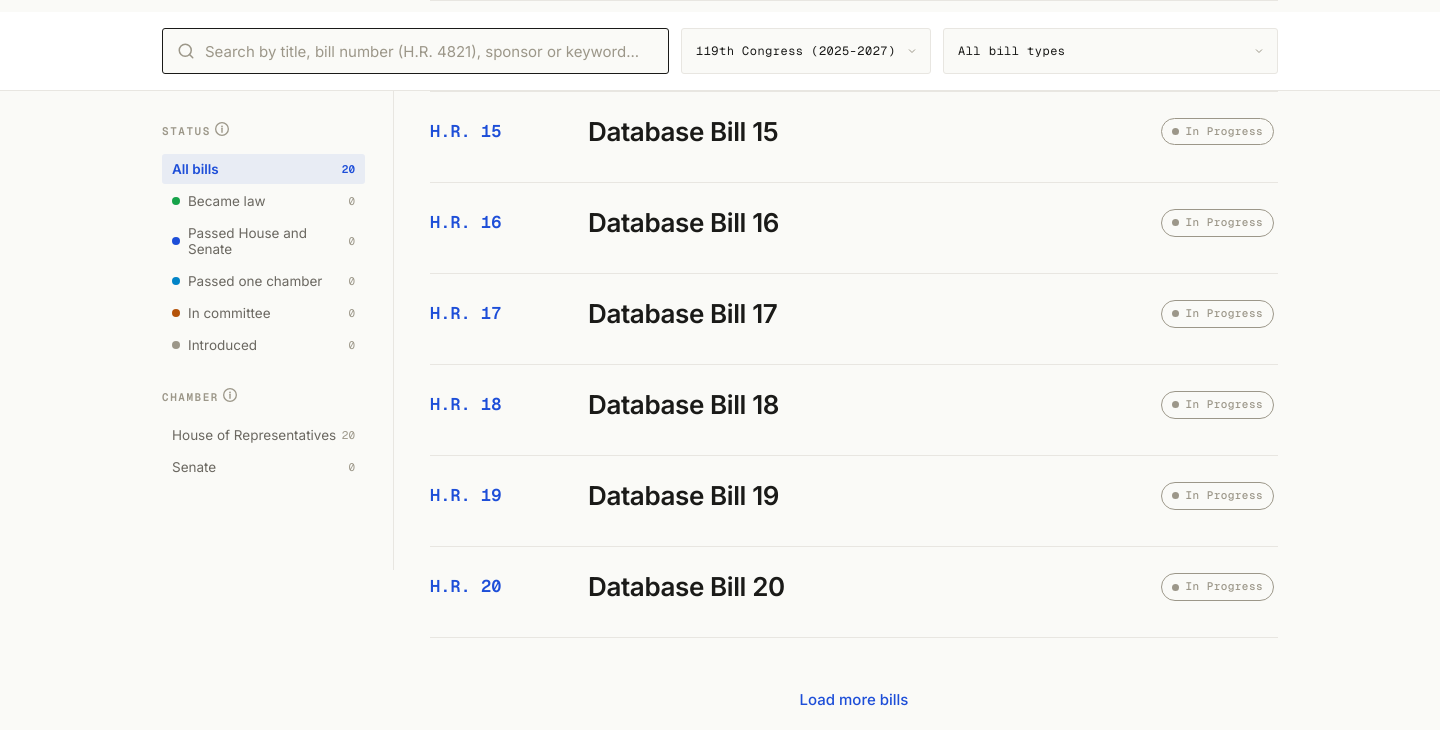
BillsPage when Congress.gov is unavailable › keeps paging through the database after falling back
(page scrolled)
Click the button "Load more bills" at (854, 700), box [798,678,910,722]
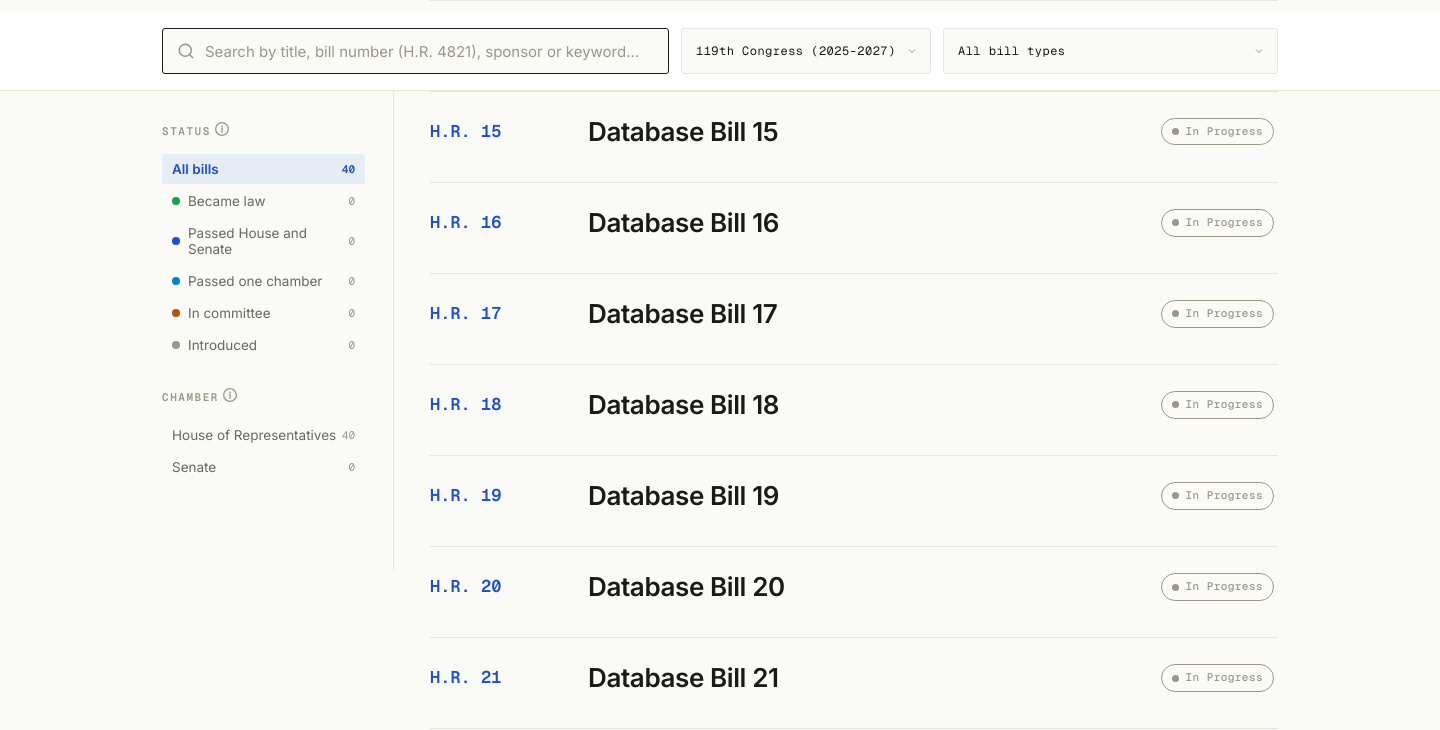
Check: the heading "Database Bill 21" is shown, box [588,662,779,693]
